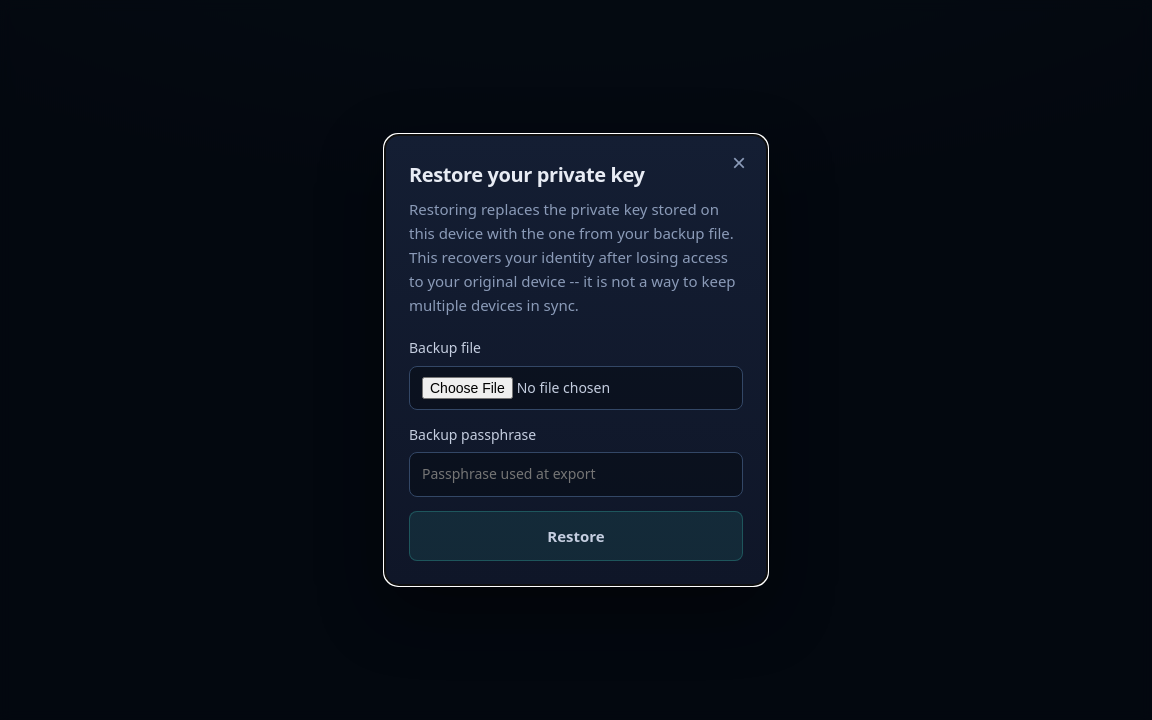
Test case: RestoreIdentityDialog › requires a file before submitting
The image size is (1152, 720).
Type "abc" into the password field labelled "Backup passphrase".
click(576, 475); type("abc")  # box [409,452,743,497]
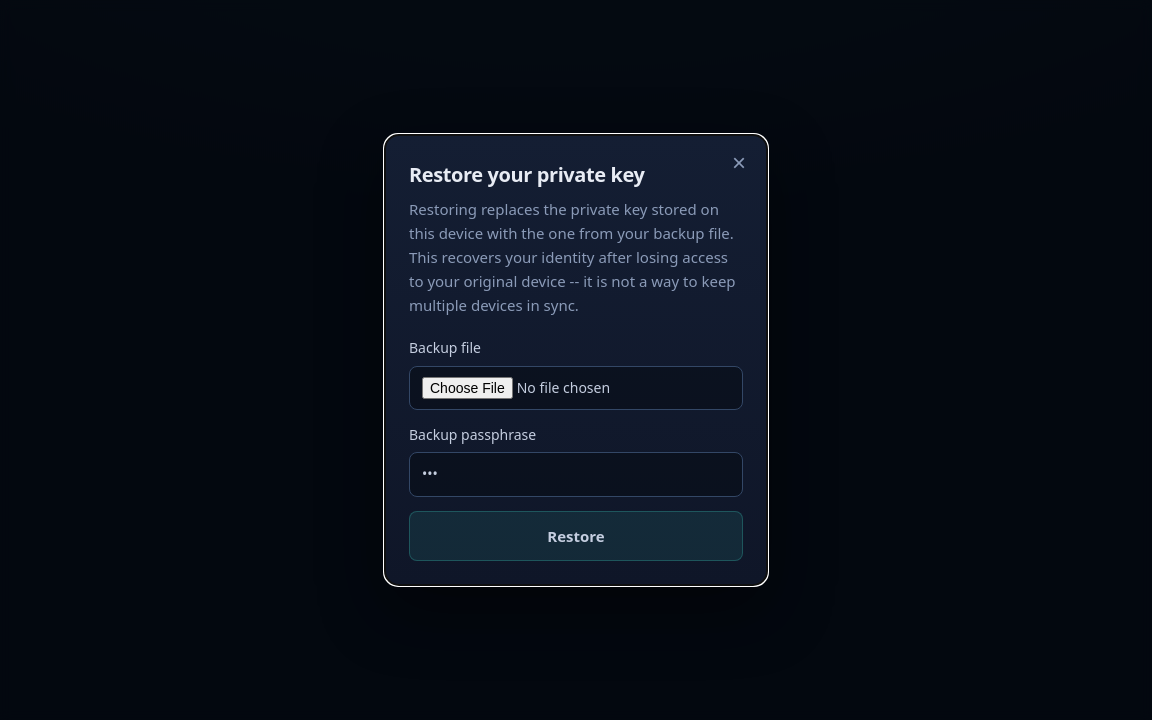
Click the button "Restore".
click(576, 536)  # box [409,511,743,561]
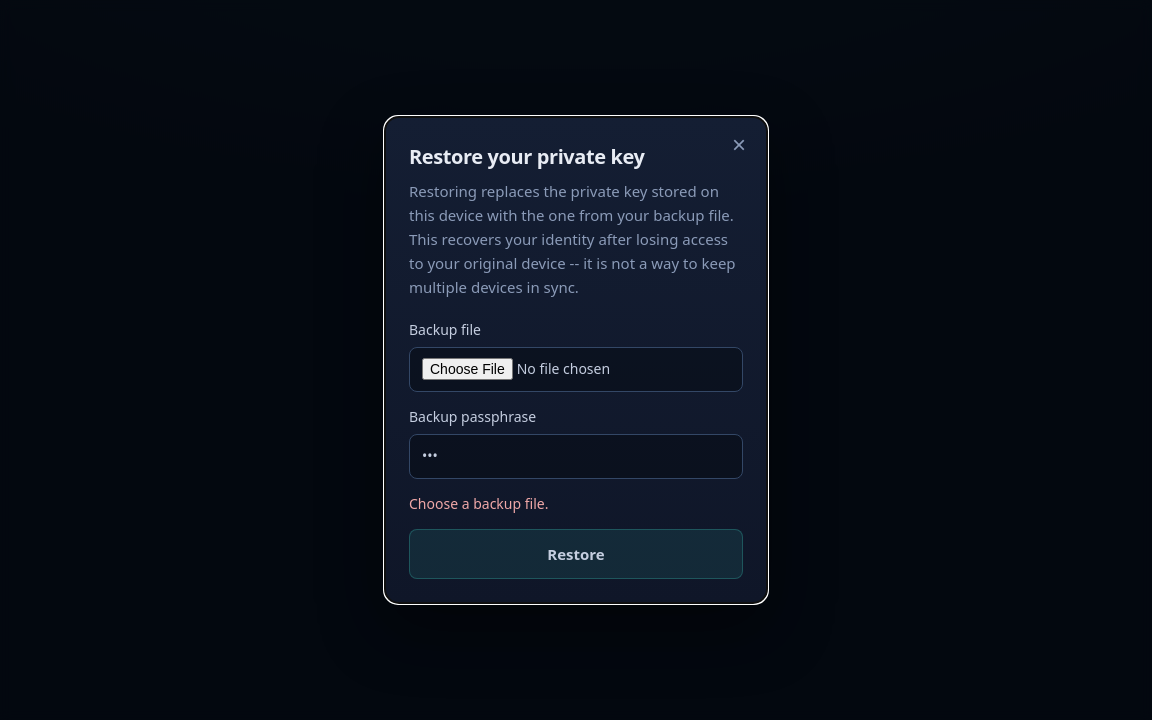
Result: the message reads "Choose a backup file." at [409,494,548,513]
